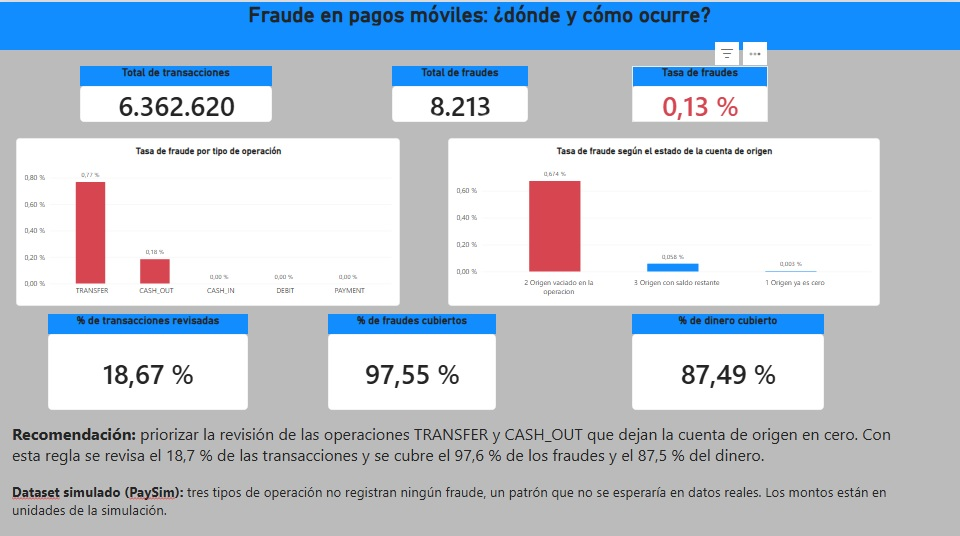

Layout of this report page (visuals, bound fields, positions):
{"tool":"powerbi","page":{"name":"Página 1","canvas":[1920,1080],"ordinal":0},"visuals":[{"type":"cardVisual","title":"Total de fraudes","fields":{"Data":["Sum(fraude_paysim resumen_cobertura.fraudes)"]},"box":[784,128,272,112],"z":4},{"type":"clusteredColumnChart","title":"Cantidad de fraudes por tipo","fields":{"Category":["fraude_paysim resumen_tipo.tipo"],"Y":["medidas.Tasa de fraude por tipo"]},"box":[32,272,768,336],"z":5},{"type":"clusteredColumnChart","title":"Estado de origen","fields":{"Category":["fraude_paysim resumen_estado_origen.estado_origen"],"Y":["medidas.Tasa por estado de origen"]},"box":[896,272,864,336],"z":6},{"type":"textbox","title":"Fraude en pagos móviles: ¿dónde y cómo ocurre?","box":[0,0,1920,96],"z":7},{"type":"textbox","box":[24,840,1800,120],"z":9},{"type":"textbox","box":[24,960,1800,96],"z":10},{"type":"cardVisual","title":"Total de fraudes","fields":{"Data":["medidas.Tasa de fraude Total"]},"box":[1264,128,272,112],"z":11},{"type":"cardVisual","title":"%  de transacciones revisadas","fields":{"Data":["medidas.% de transacciones revisadas"]},"box":[96,624,400,192],"z":12},{"type":"cardVisual","title":"% de fraudes cubiertos","fields":{"Data":["medidas.% de fraudes cubiertos"]},"box":[656,624,336,192],"z":13},{"type":"cardVisual","title":"% de dinero cubierto","fields":{"Data":["medidas.% de dinero cubierto"]},"box":[1264,624,384,192],"z":14},{"type":"cardVisual","title":"Total de fraudes","fields":{"Data":["medidas.total de transacciones"]},"box":[160,128,384,112],"z":16}]}

Visuals, with their boxes in screenshot pixels (x1, y1, x2, y2), scaled from the page's 1920x1080 canvas onto the 960x536 screenshot:
"Total de fraudes" cardVisual: (x1=392, y1=64, x2=528, y2=119)
"Cantidad de fraudes por tipo" clusteredColumnChart: (x1=16, y1=135, x2=400, y2=302)
"Estado de origen" clusteredColumnChart: (x1=448, y1=135, x2=880, y2=302)
"Fraude en pagos móviles: ¿dónde y cómo ocurre?" textbox: (x1=0, y1=0, x2=959, y2=48)
textbox: (x1=12, y1=417, x2=912, y2=476)
textbox: (x1=12, y1=476, x2=912, y2=524)
"Total de fraudes" cardVisual: (x1=632, y1=64, x2=768, y2=119)
"%  de transacciones revisadas" cardVisual: (x1=48, y1=310, x2=248, y2=405)
"% de fraudes cubiertos" cardVisual: (x1=328, y1=310, x2=496, y2=405)
"% de dinero cubierto" cardVisual: (x1=632, y1=310, x2=824, y2=405)
"Total de fraudes" cardVisual: (x1=80, y1=64, x2=272, y2=119)
